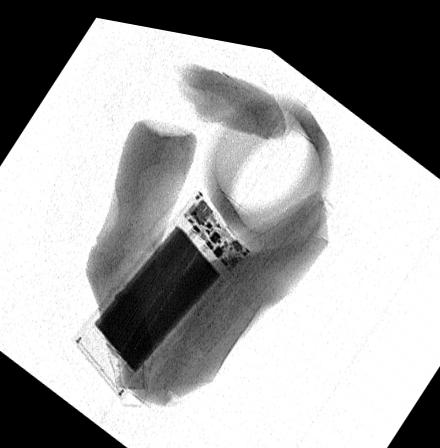Powerbank: (71, 181, 251, 392)
